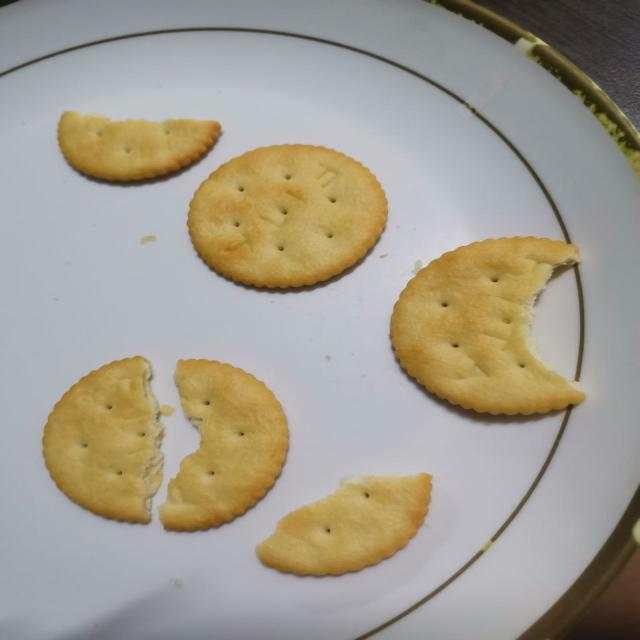broken biscuit: (388, 234, 587, 417), (157, 344, 282, 533), (40, 354, 165, 525), (255, 471, 434, 577), (55, 109, 223, 183)
intact biscuit: (185, 142, 389, 290)
